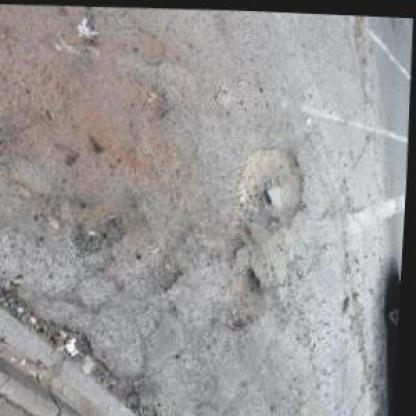pothole: (0, 269, 148, 414), (232, 140, 310, 234), (214, 262, 273, 330), (70, 193, 130, 255)
